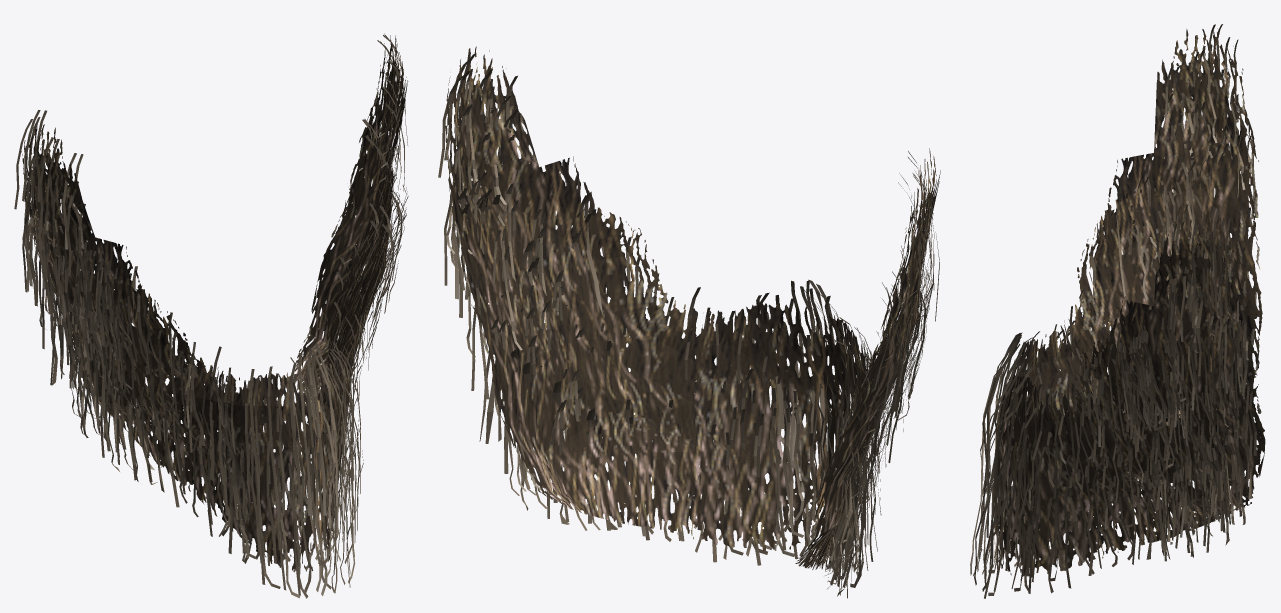
The model's file is mhw_rehmanpolanski_beard_viking.glb.
The picture shows the model from 3 angles, left to right: view 1: azimuth 30°, elevation 25°; view 2: azimuth 150°, elevation 25°; view 3: azimuth 270°, elevation 25°; orthographic projection. The views are drawn at different scales.
Parts seen in each view (by area): view 1: mhw_rehmanpolanski_beard_viking; view 2: mhw_rehmanpolanski_beard_viking; view 3: mhw_rehmanpolanski_beard_viking.
Part boxes in pixels (x1=…): mhw_rehmanpolanski_beard_viking: x1=14, y1=33, x2=408, y2=598; mhw_rehmanpolanski_beard_viking: x1=438, y1=46, x2=940, y2=598; mhw_rehmanpolanski_beard_viking: x1=970, y1=24, x2=1265, y2=598.
Size of the model in its own units: 0.1522 by 0.1726 by 0.0965.
1 material, 1 textured.
